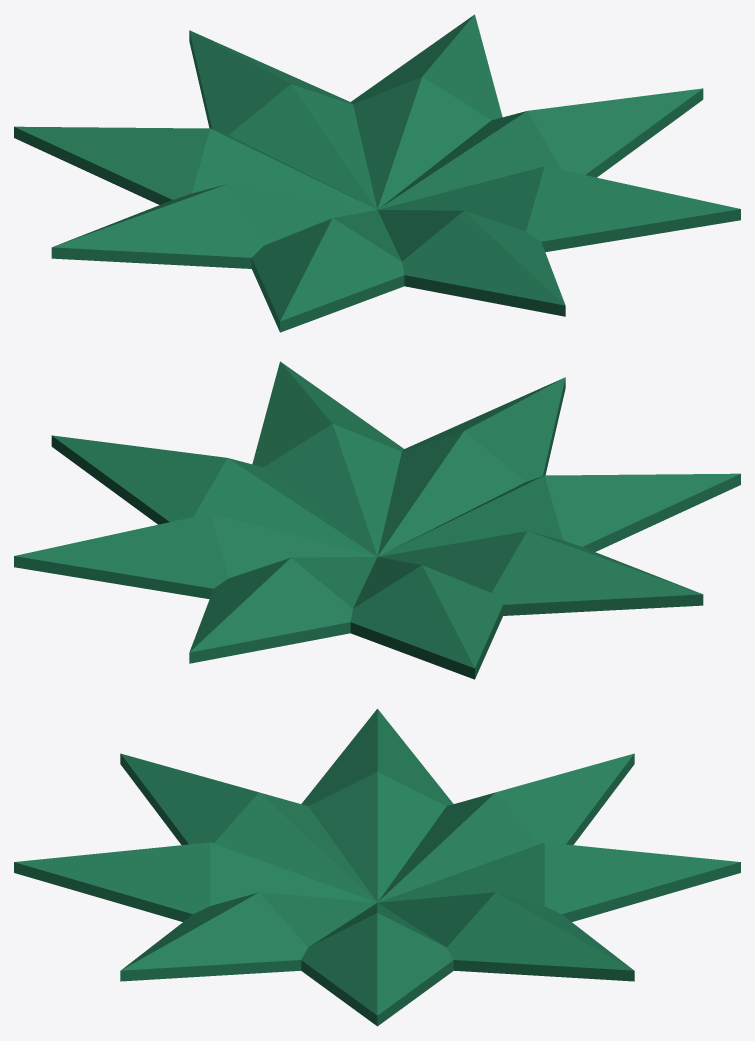
3 renders of one model, top to bottom at view 1: azimuth 30°, elevation 25°; view 2: azimuth 150°, elevation 25°; view 3: azimuth 270°, elevation 25°, orthographic. The views are drawn at different scales.
Parts seen in each view (by area): view 1: 花下折叶_1.001; view 2: 花下折叶_1.001; view 3: 花下折叶_1.001.
Part boxes in pixels (x1,y1,x2,y2): 花下折叶_1.001: (14,14,740,332); 花下折叶_1.001: (14,361,740,679); 花下折叶_1.001: (14,708,740,1026).
Bounding box in the file's own units: 0.2436 × 0.0263 × 0.2436.
